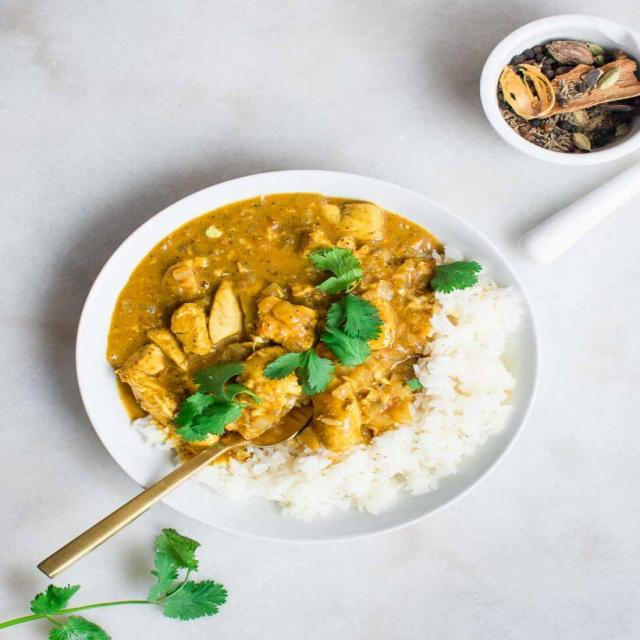chicken: (104, 191, 424, 428)
rice: (230, 448, 460, 517), (439, 284, 525, 451)
